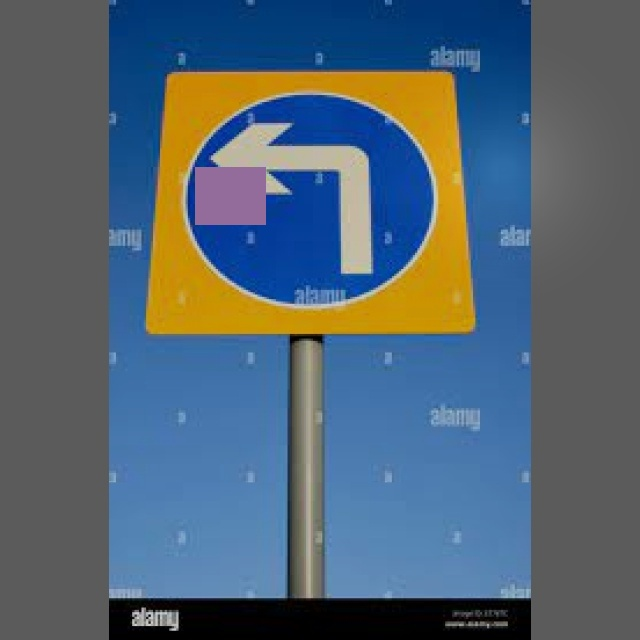Compulsory_Turn_Left_Ahead: (181, 87, 451, 320)
